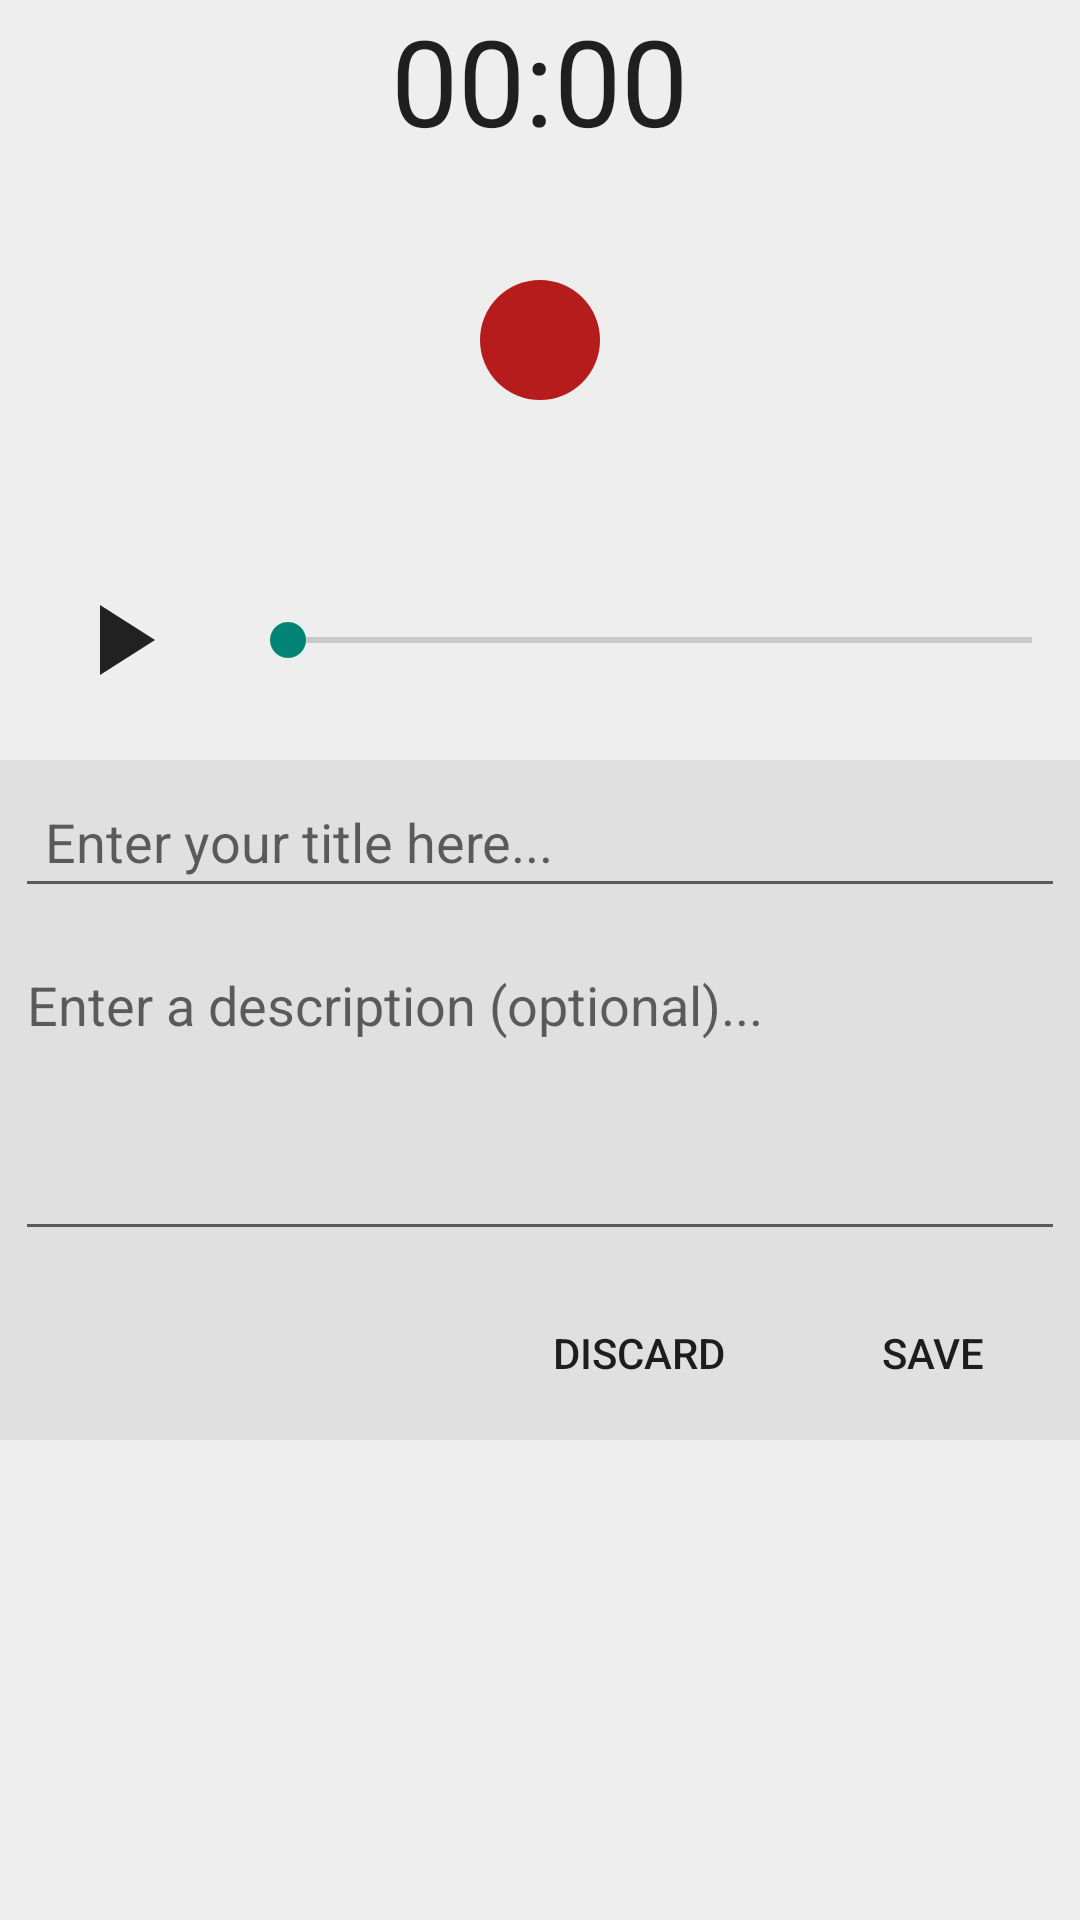

Icon click points for this 1080*1920 phone screenshot, format point (x, y):
play audio: point (127, 640)
